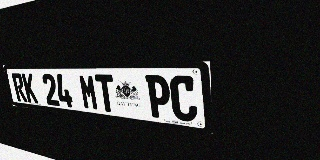2: (41, 74, 60, 106)
4: (54, 74, 74, 108)
C: (169, 75, 198, 123)
K: (21, 73, 38, 103)
M: (78, 74, 99, 111)
P: (145, 75, 172, 119)
R: (11, 73, 28, 102)
T: (94, 74, 117, 113)
